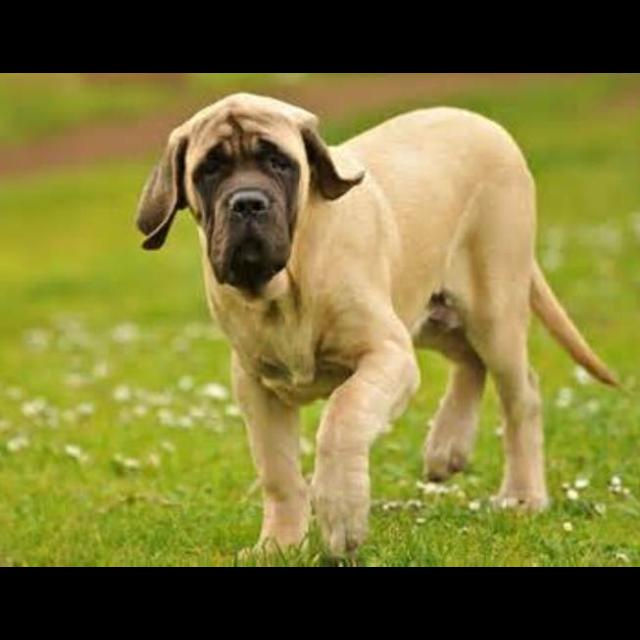mastiff: (136, 92, 623, 565)
